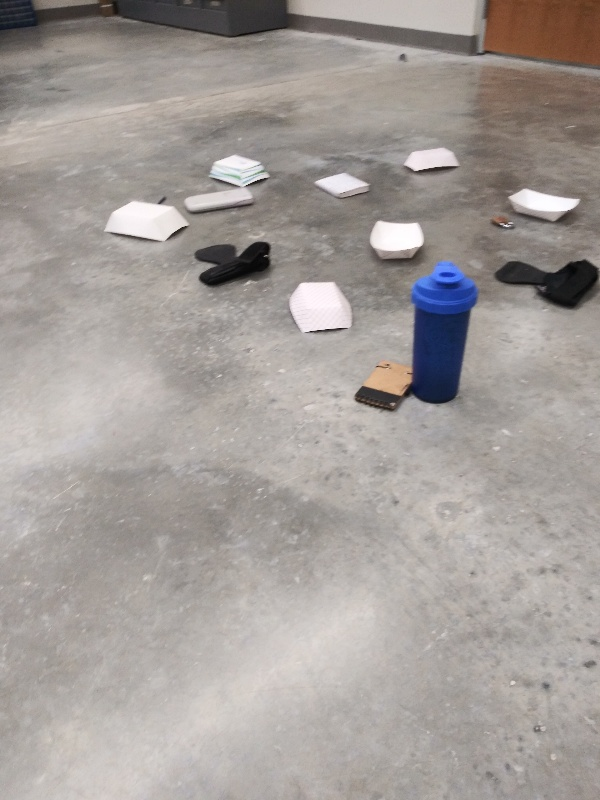plate: (100, 197, 190, 249), (284, 277, 355, 340), (502, 186, 584, 227), (367, 216, 428, 267), (203, 151, 275, 192), (400, 146, 463, 176)
